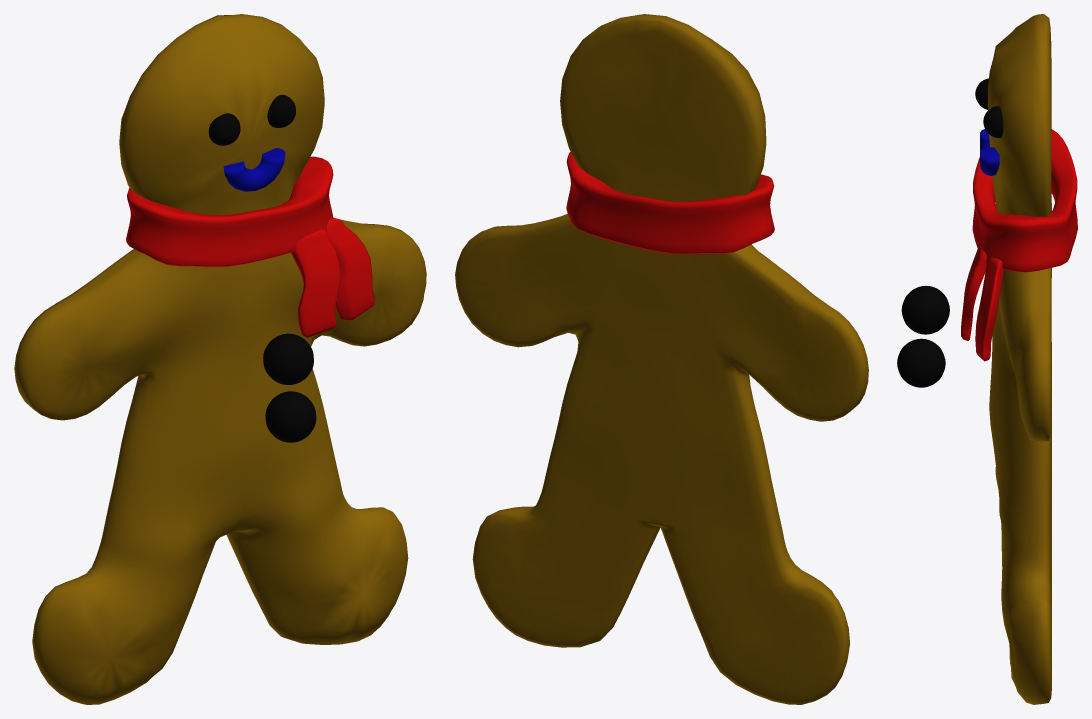
File: Jengi.fbx
3 renders of one model, left to right at view 1: azimuth 30°, elevation 25°; view 2: azimuth 150°, elevation 25°; view 3: azimuth 270°, elevation 25°, orthographic. The views are drawn at different scales.
Parts seen in each view (by area): view 1: polySurface5; view 2: polySurface5; view 3: polySurface5.
Part boxes in pixels (x1,y1,x2,y2): polySurface5: (14, 14, 426, 704); polySurface5: (455, 14, 868, 704); polySurface5: (897, 14, 1077, 704).
Bounding box in the file's own units: 5.24 × 8 × 2.12.
